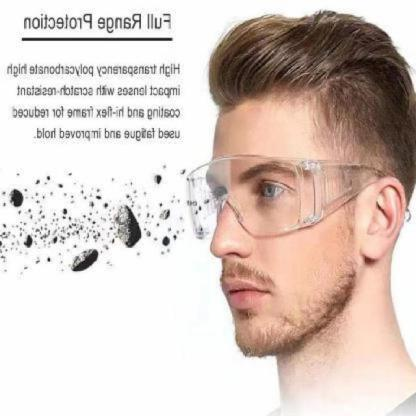oculos: (180, 147, 392, 243)
